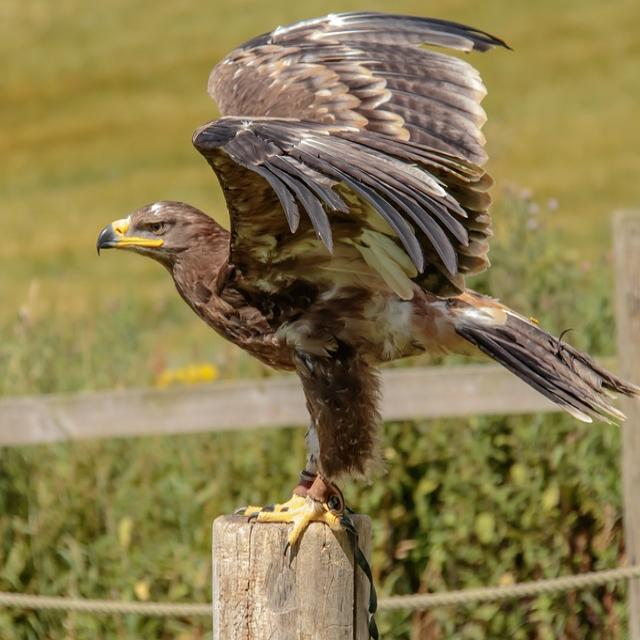Carnivorous: (96, 11, 640, 550)
